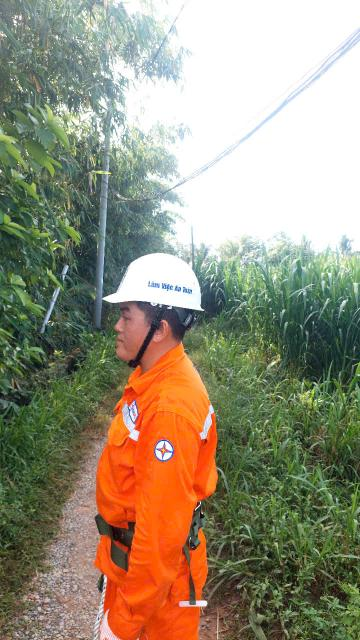harness: (88, 490, 222, 564)
helmet: (87, 237, 223, 320)
